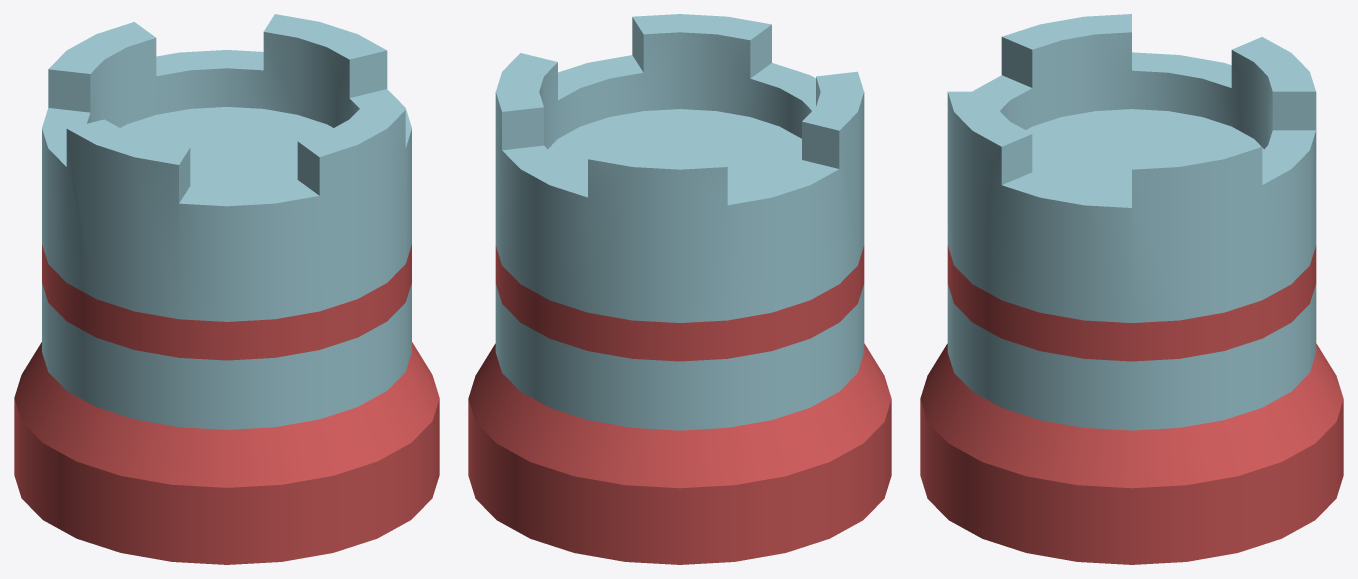
The model's file is towerRound_sampleA.fbx.
The picture shows the model from 3 angles, left to right: view 1: azimuth 30°, elevation 25°; view 2: azimuth 150°, elevation 25°; view 3: azimuth 270°, elevation 25°; orthographic projection.
Parts seen in each view (by area): view 1: towerRound_sampleA; view 2: towerRound_sampleA; view 3: towerRound_sampleA.
Boxes of the visible parts, box(x1,y1,x2,y2) form: towerRound_sampleA: box(14, 14, 439, 564); towerRound_sampleA: box(468, 14, 891, 564); towerRound_sampleA: box(920, 14, 1343, 564).
Bounding box in the file's own units: 10 × 10 × 10.
